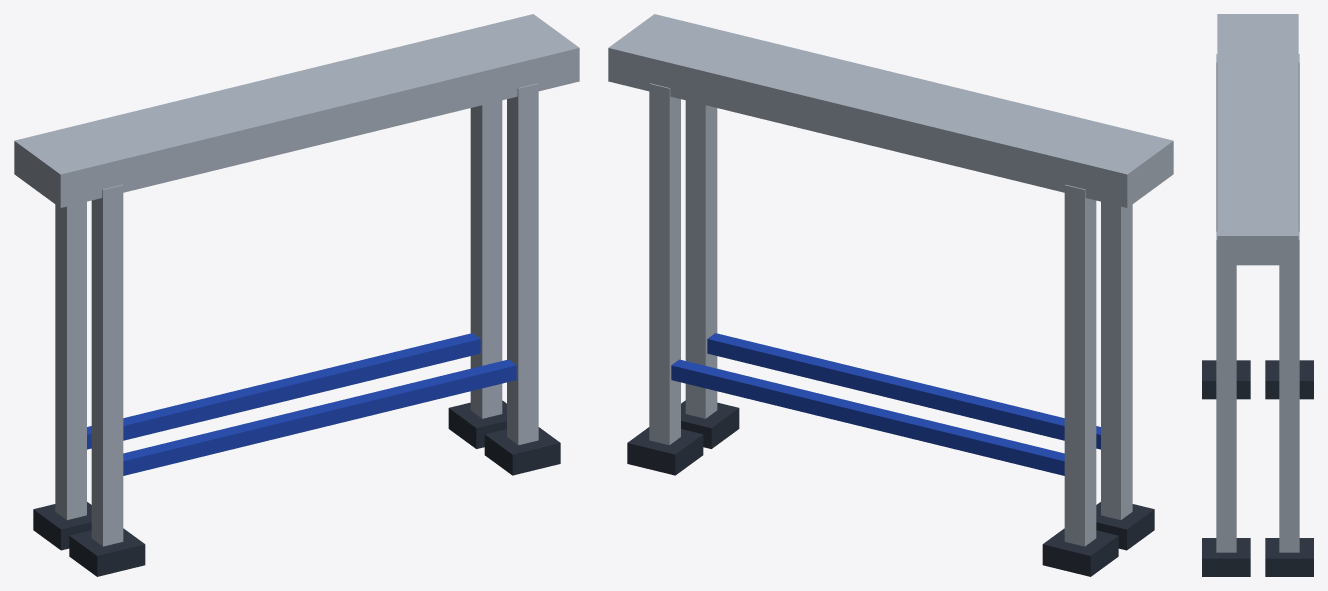
File: SM_MPR_ConveyorSupport.fbx
3 views of the same model, side by side, from view 1: azimuth 30°, elevation 25°; view 2: azimuth 150°, elevation 25°; view 3: azimuth 270°, elevation 25° (orthographic). The views are drawn at different scales.
Parts seen in each view (by area): view 1: SM_MPR_ConveyorSupport; view 2: SM_MPR_ConveyorSupport; view 3: SM_MPR_ConveyorSupport.
Boxes of the visible parts, <box> form: SM_MPR_ConveyorSupport: <box>14,14,579,576</box>; SM_MPR_ConveyorSupport: <box>608,14,1173,576</box>; SM_MPR_ConveyorSupport: <box>1202,14,1313,576</box>.
Size of the model in its own units: 129 by 27.6 by 96.
